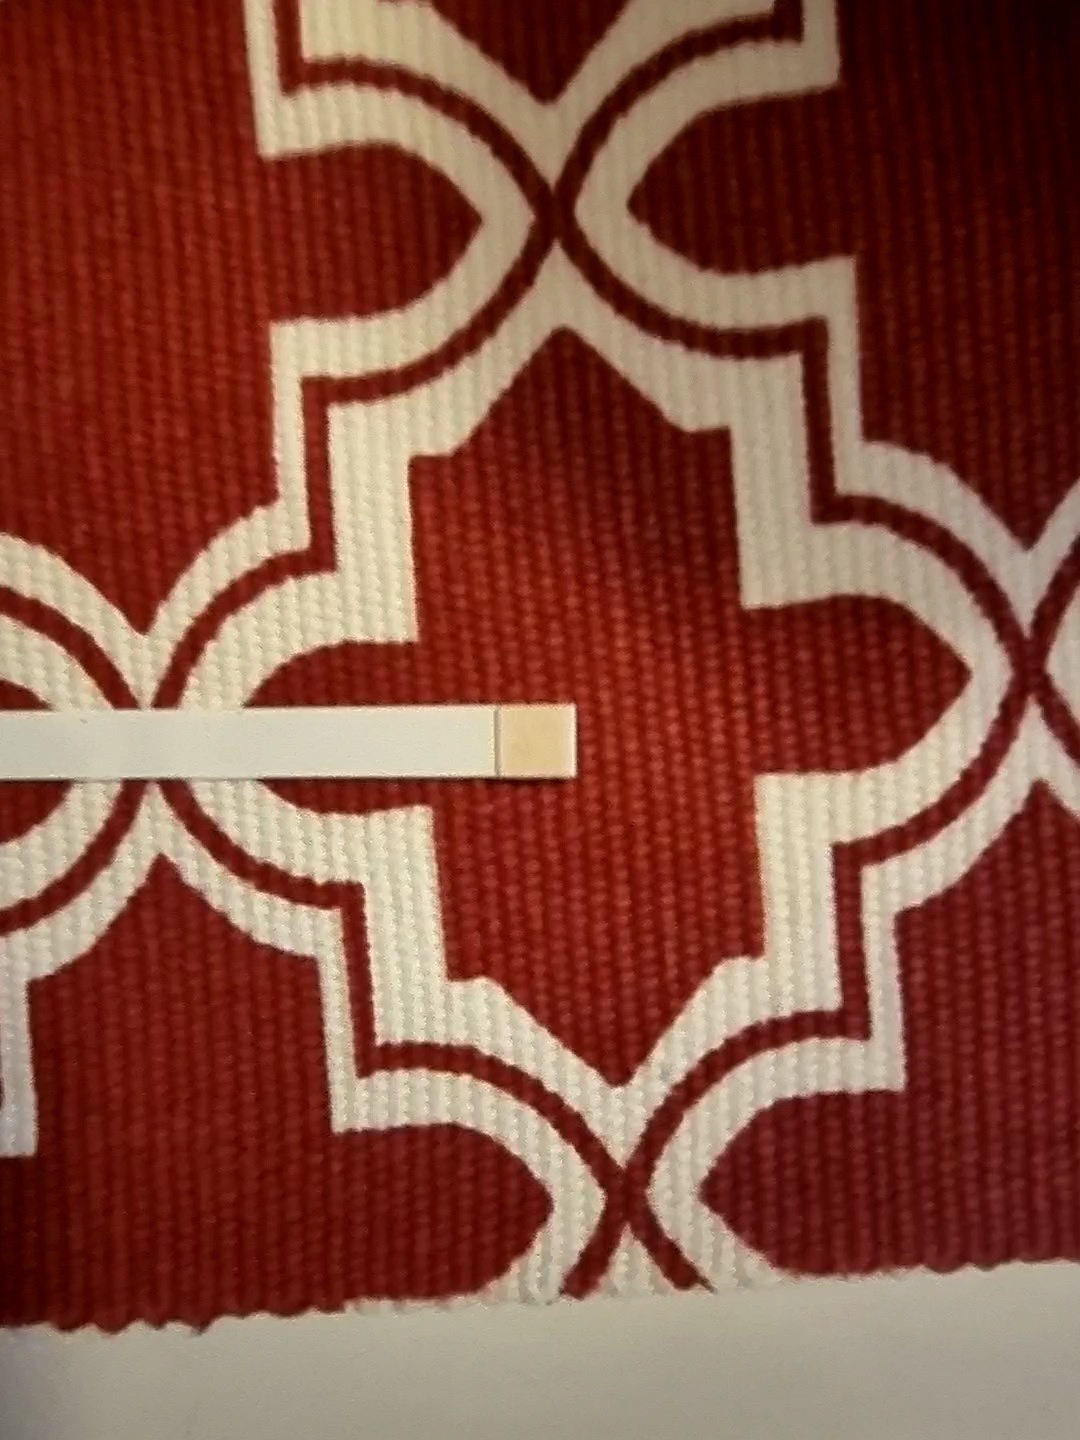keto-tip: (490, 701, 585, 786)
